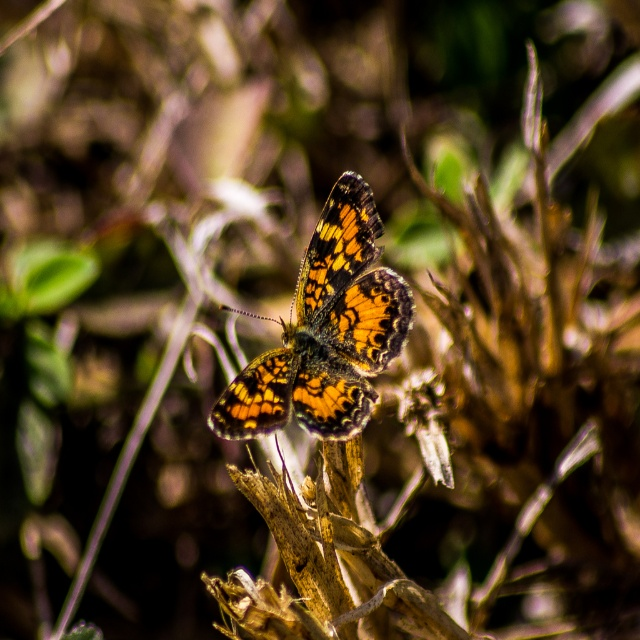Butterfly: (210, 164, 417, 459)
